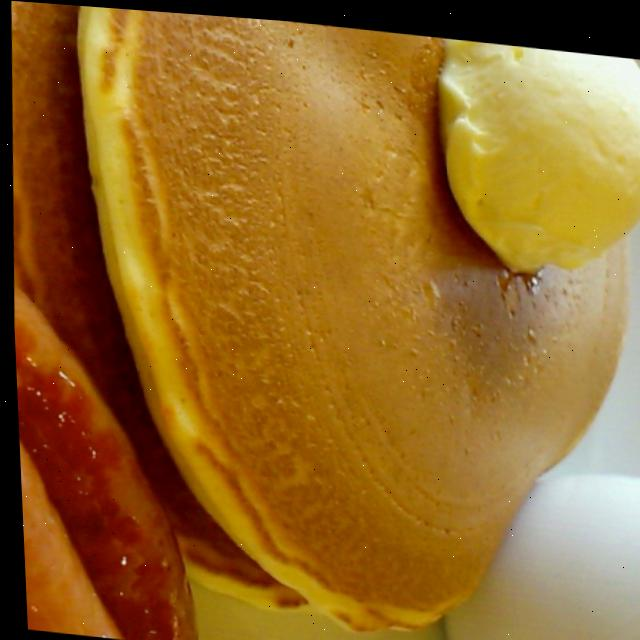蛋糕甜品: (27, 2, 640, 640)
